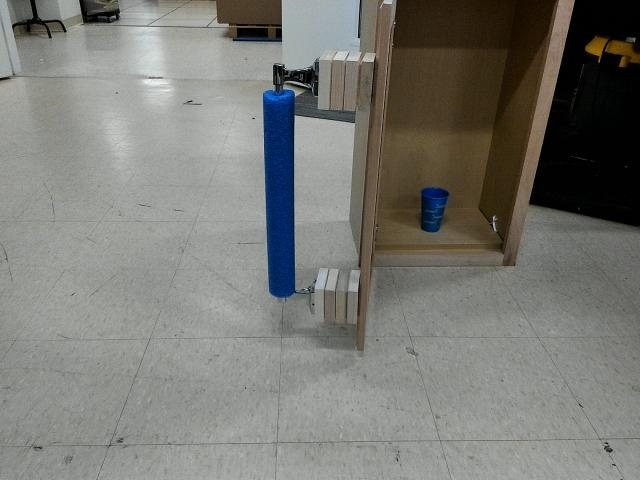noodle_handle: (256, 80, 306, 304)
water_cup: (414, 174, 451, 236)
